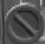No waiting: (2, 2, 44, 41)
